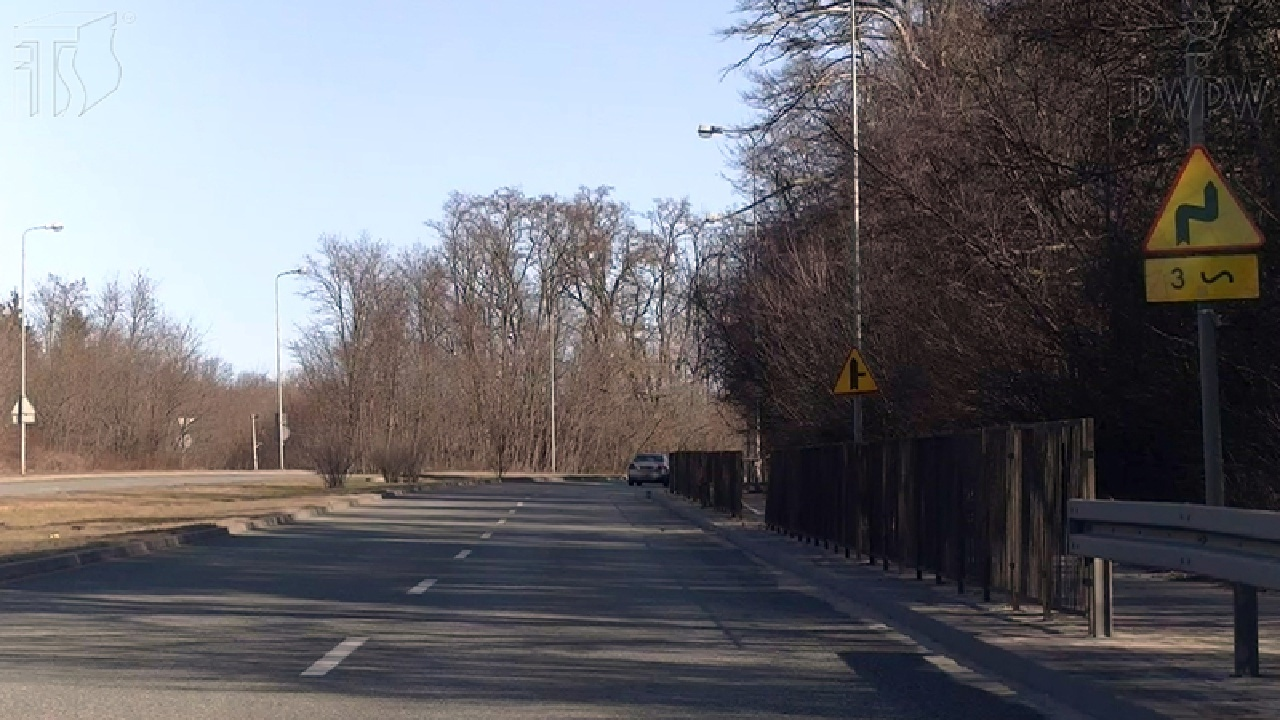A3: (1129, 136, 1262, 254)
A6b: (827, 345, 887, 401)
